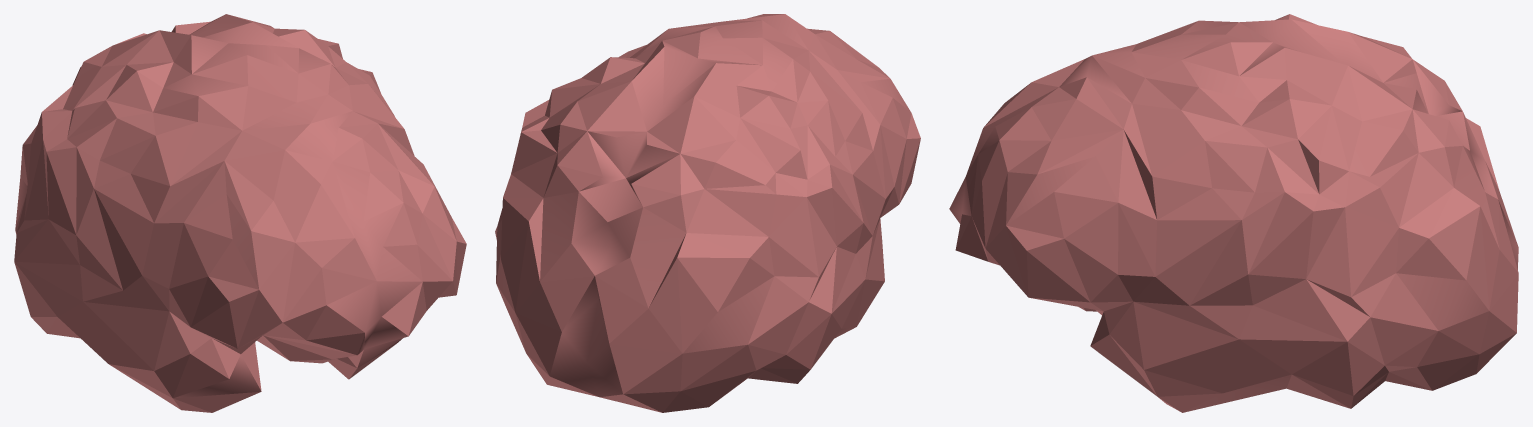
File: Brain.gltf
The picture shows the model from 3 angles, left to right: view 1: azimuth 30°, elevation 25°; view 2: azimuth 150°, elevation 25°; view 3: azimuth 270°, elevation 25°; orthographic projection. The views are drawn at different scales.
Visible parts, largest first — view 1: Brain-low; view 2: Brain-low; view 3: Brain-low.
Boxes of the visible parts, x1,y1,x2,y2 form: Brain-low: (14,14,466,412); Brain-low: (495,14,920,412); Brain-low: (949,14,1518,412).
Bounding box in the file's own units: 40.12 × 34.84 × 53.41.
